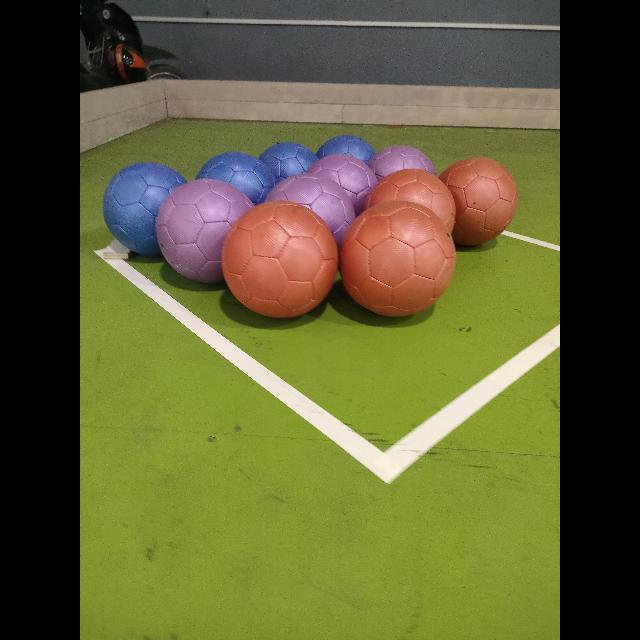B: (104, 163, 186, 255), (194, 152, 276, 206), (261, 142, 321, 195), (315, 135, 375, 163)
P: (156, 180, 252, 282), (264, 174, 356, 246), (368, 145, 437, 181)
R: (222, 202, 338, 318), (340, 202, 456, 316), (442, 154, 520, 246)
